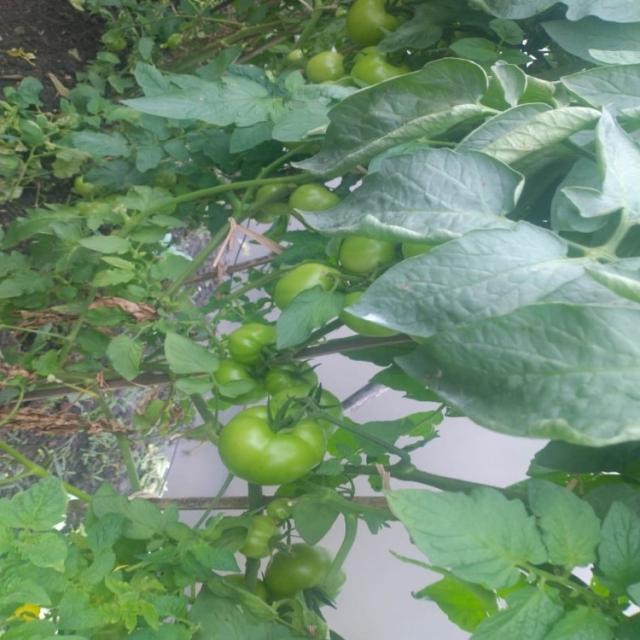tomato: (211, 401, 344, 492), (264, 545, 339, 604), (339, 1, 420, 43), (273, 253, 346, 298), (336, 230, 405, 277), (349, 43, 411, 82), (235, 510, 282, 555), (297, 48, 355, 81), (223, 319, 271, 355), (267, 362, 323, 391), (286, 183, 339, 211), (220, 352, 258, 383), (265, 498, 291, 524)
